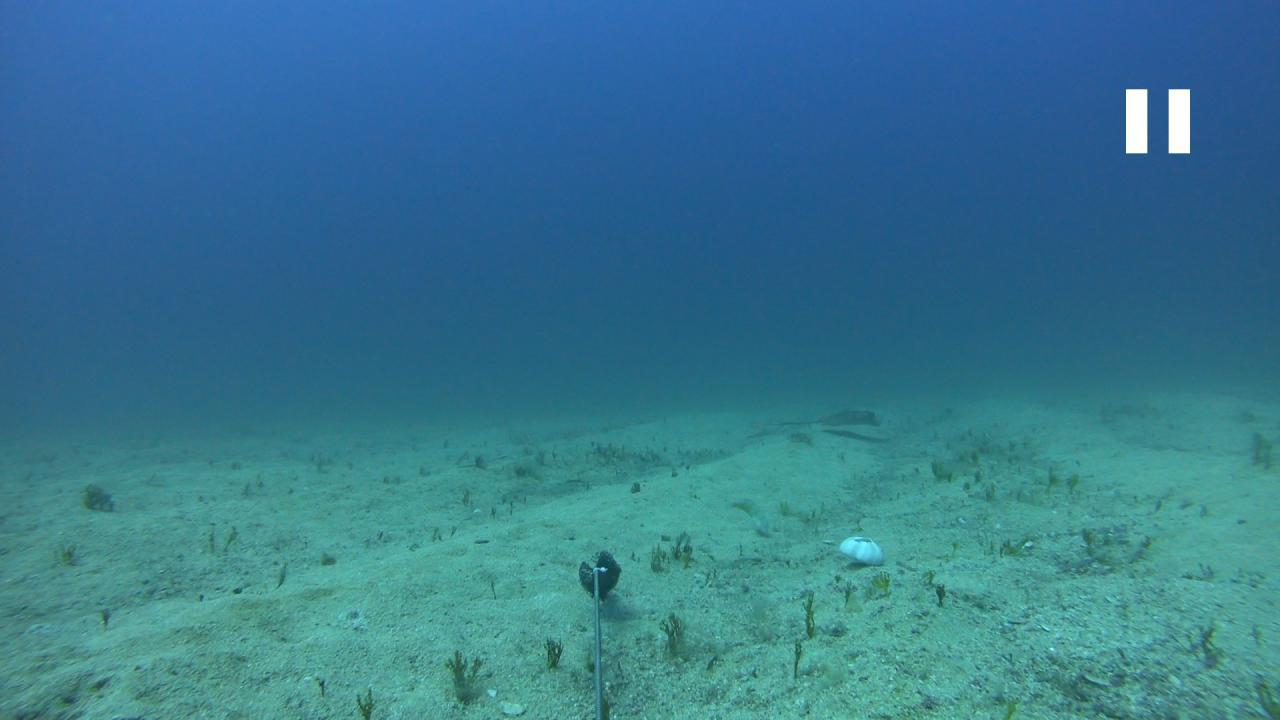dasyatis: (766, 410, 884, 432)
raor: (731, 496, 772, 540)
